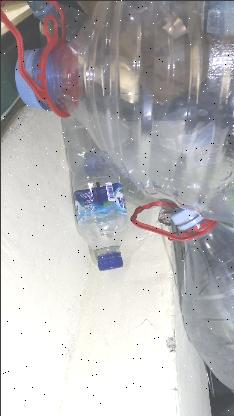Plastic Bottle: (124, 5, 234, 387), (7, 2, 130, 270)
